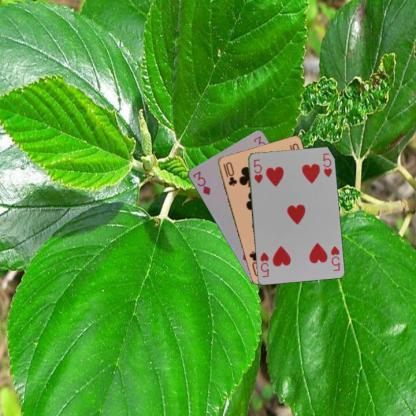10c: (220, 159, 238, 187)
3d: (190, 169, 212, 196)
5h: (328, 243, 341, 272), (251, 157, 263, 184)
